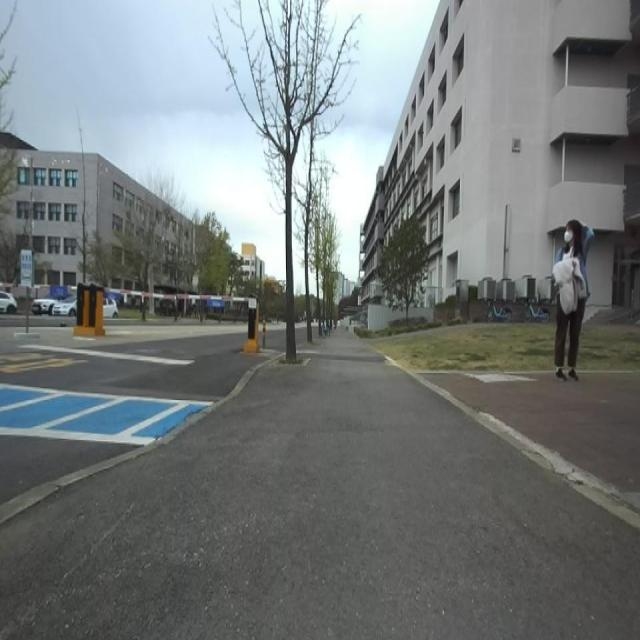sidewalk: (0, 326, 640, 639), (1, 356, 276, 524), (386, 357, 640, 528), (424, 372, 640, 492), (0, 428, 184, 525), (217, 356, 276, 404), (467, 373, 537, 383)
